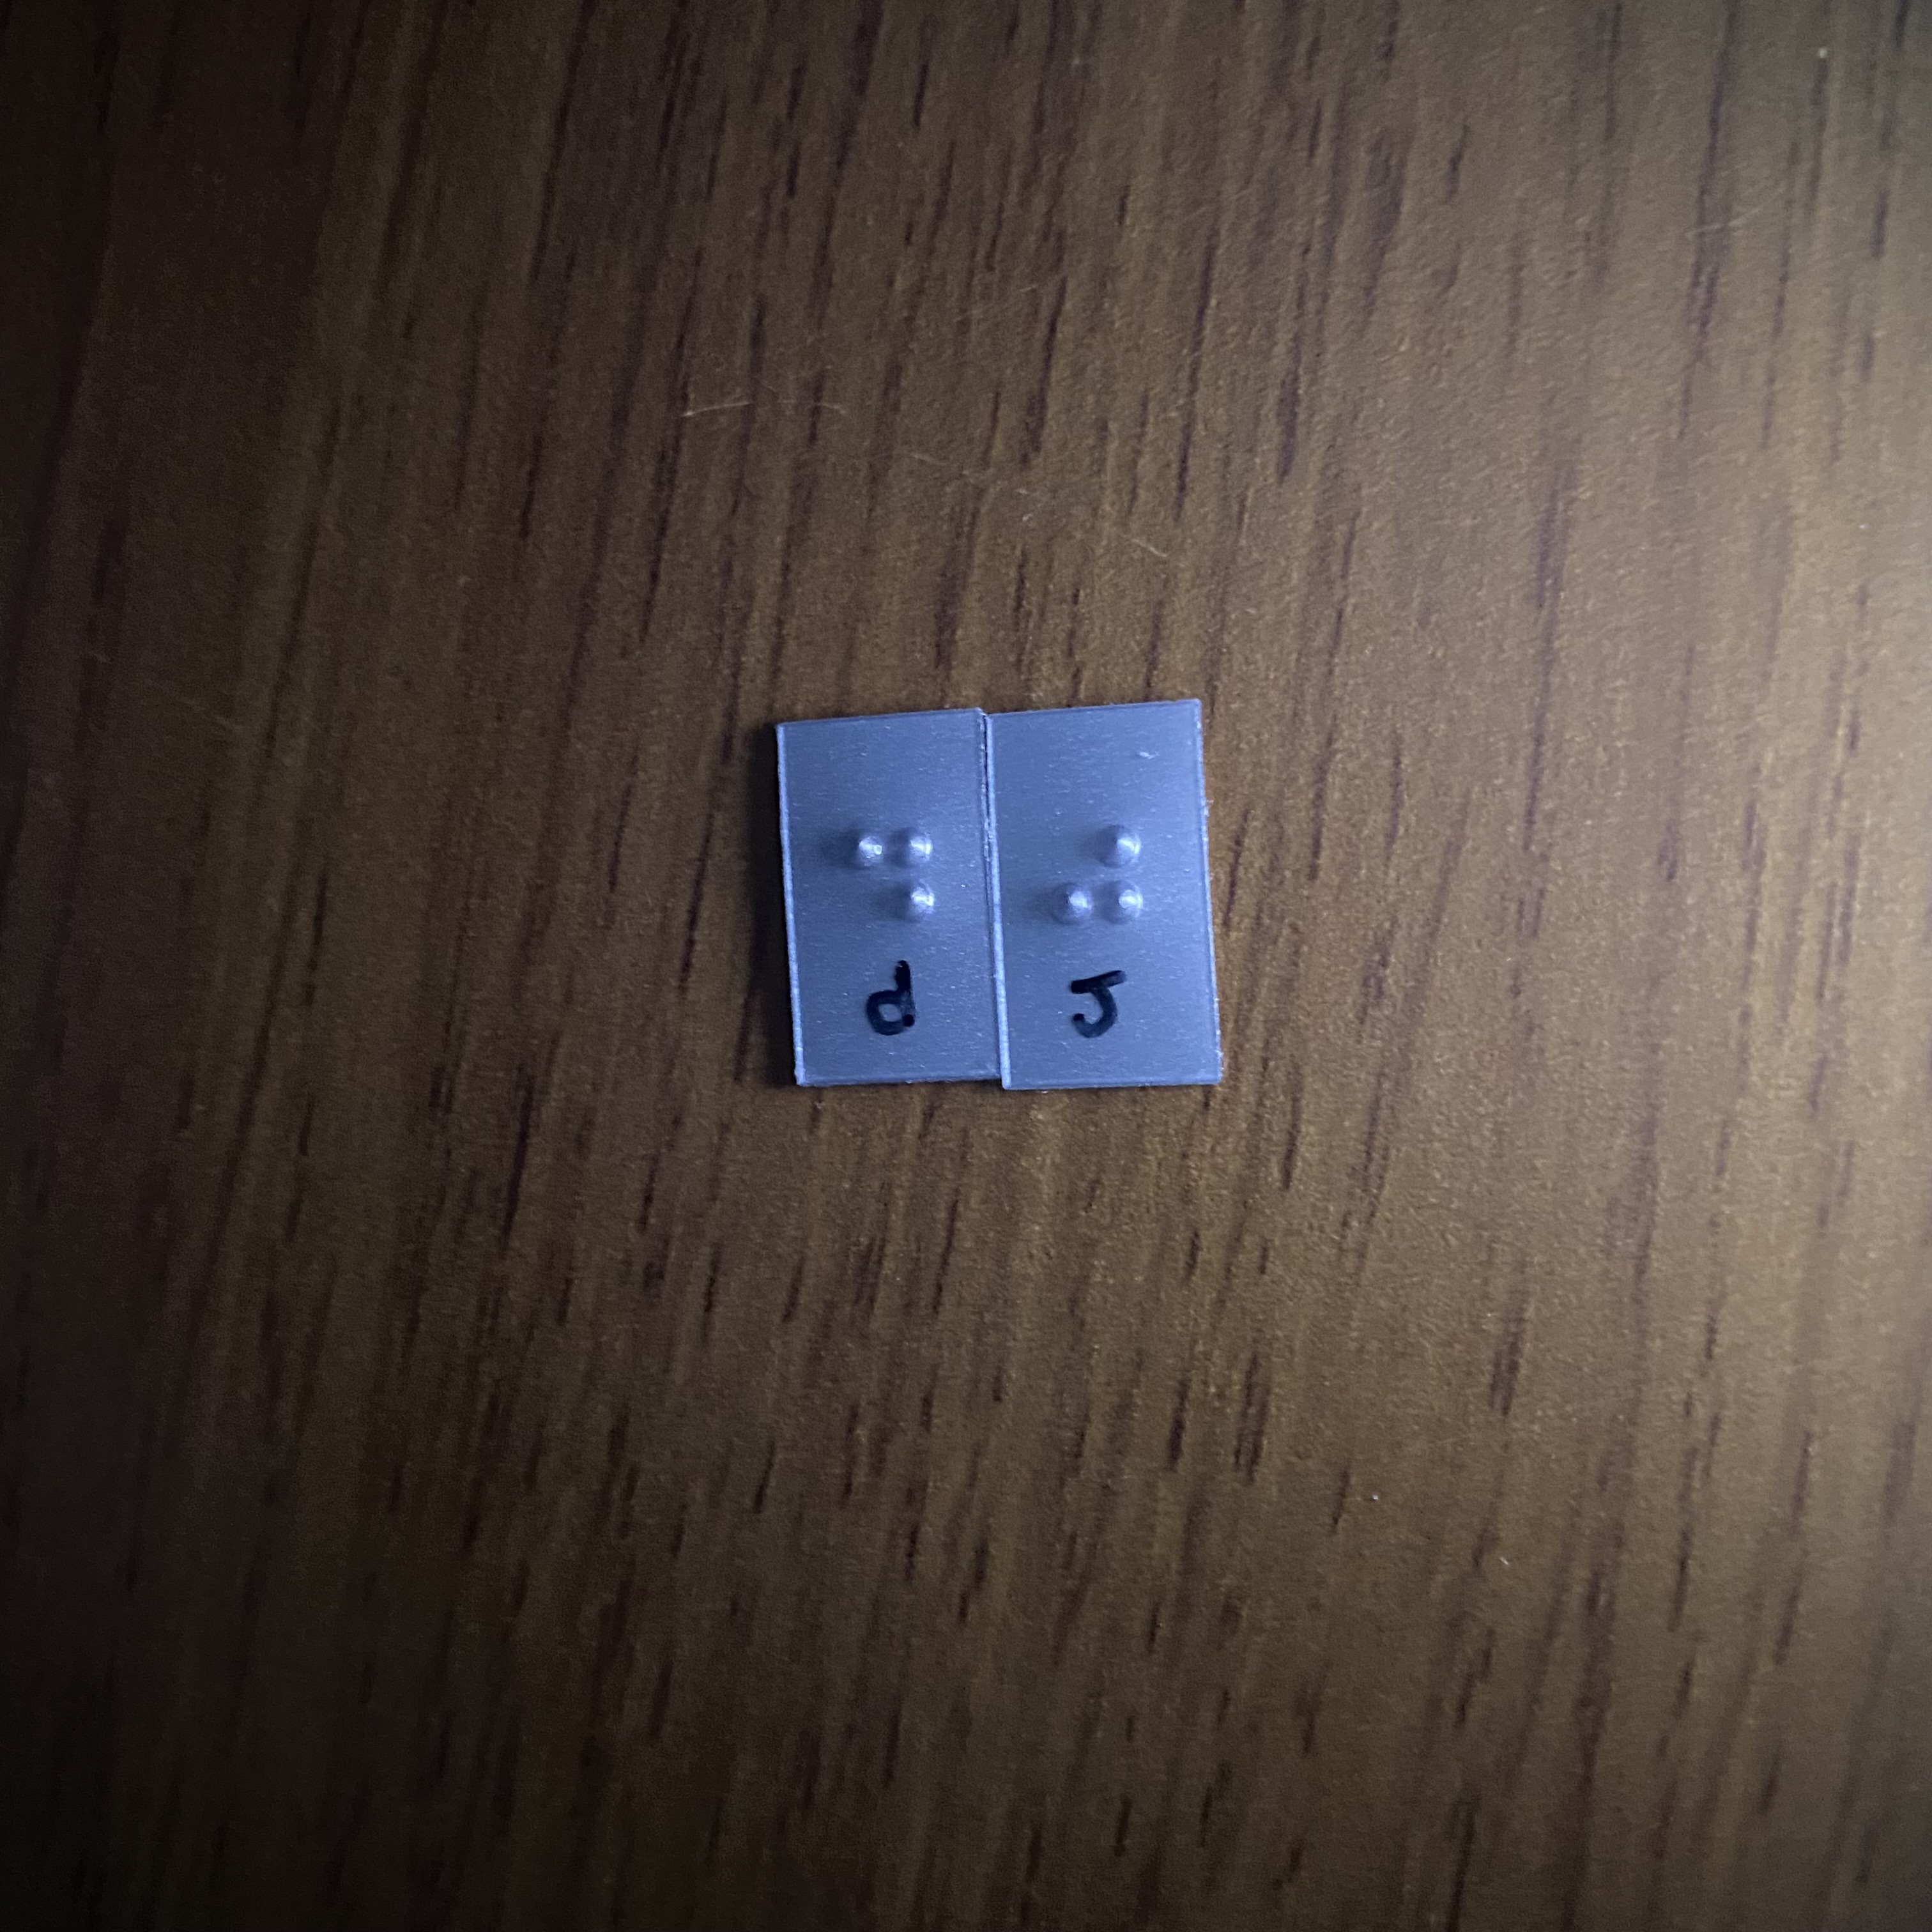d: (813, 793, 952, 987)
j: (1016, 788, 1163, 991)
